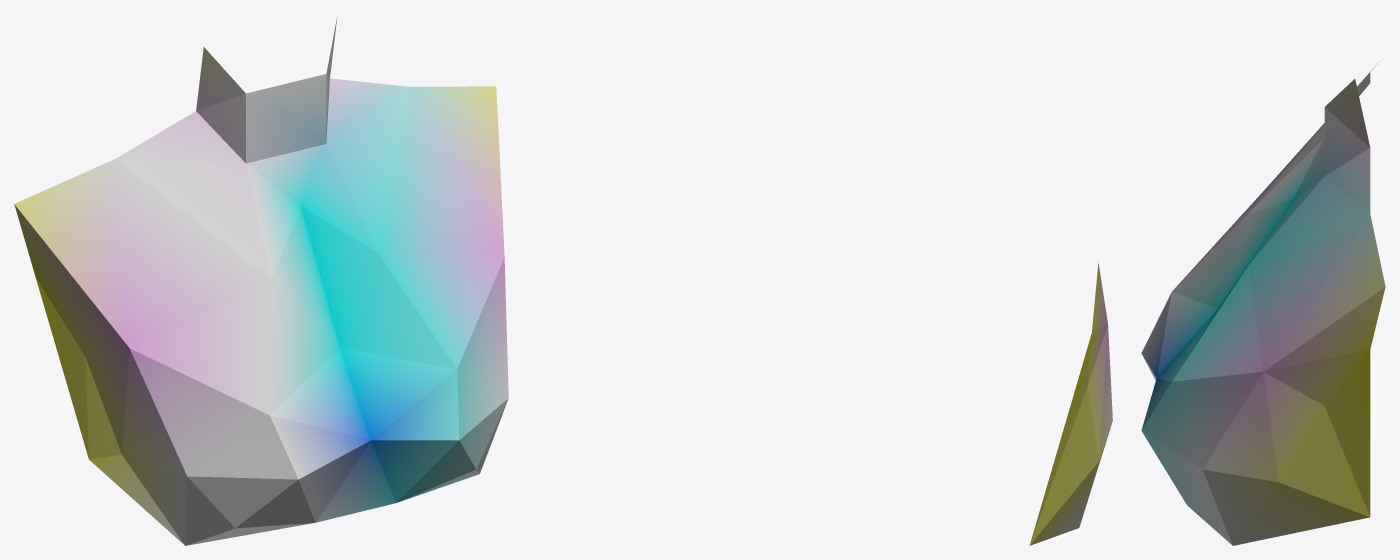
3 views of the same model, side by side, from view 1: azimuth 30°, elevation 25°; view 2: azimuth 150°, elevation 25°; view 3: azimuth 270°, elevation 25° (orthographic). The views are drawn at different scales.
Parts seen in each view (by area): view 1: model_1181; view 2: model_1181; view 3: model_1181.
Boxes of the visible parts, x1=… form: model_1181: x1=14, y1=15, x2=508, y2=545; model_1181: x1=1029, y1=262, x2=1112, y2=545; model_1181: x1=1141, y1=58, x2=1385, y2=545.
Bounding box in the file's own units: 36 × 31 × 16.
